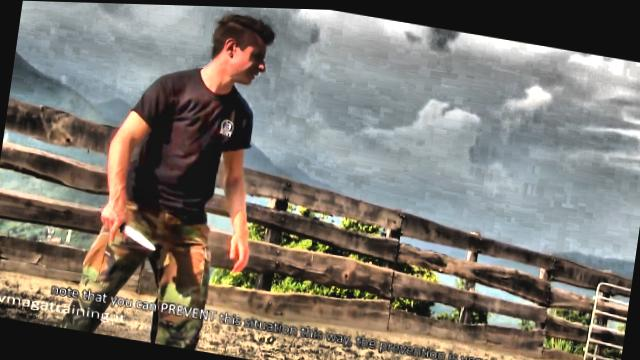knife: (90, 205, 165, 256)
